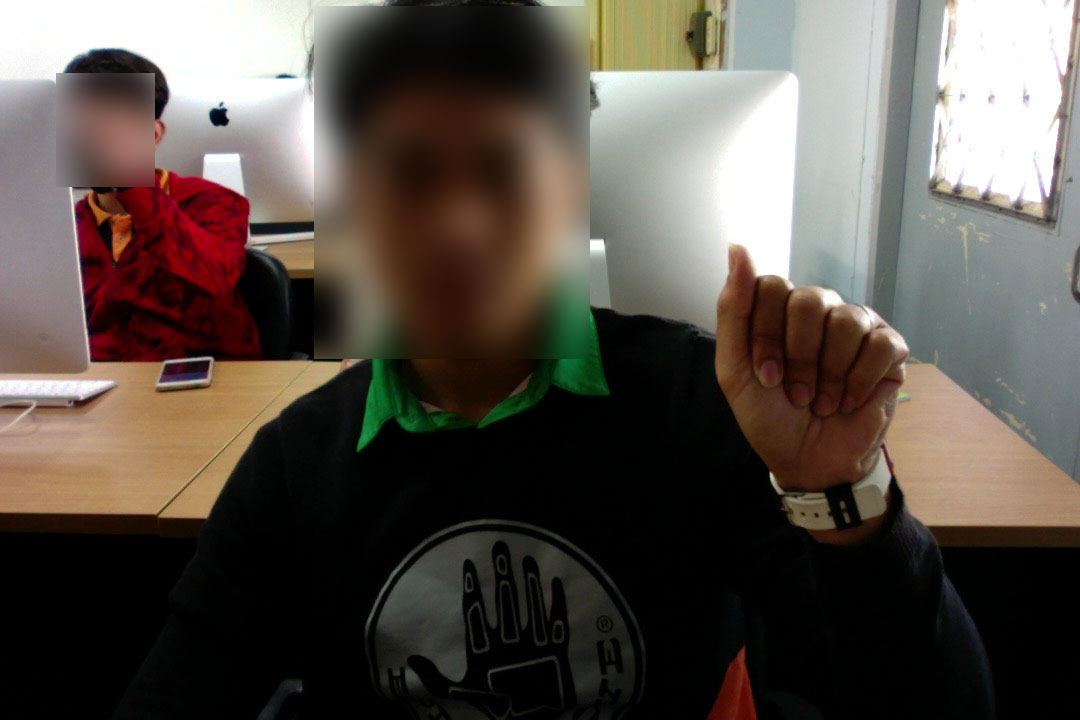or: (705, 228, 920, 498)
